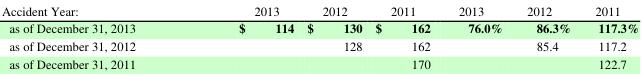table: (0, 1, 638, 71)
table column: (0, 1, 186, 71), (186, 1, 299, 71), (368, 1, 443, 71), (443, 1, 514, 71), (299, 1, 368, 71), (514, 1, 582, 71), (582, 1, 638, 71)
table column header: (0, 1, 638, 18)
table row: (0, 18, 638, 36), (0, 53, 638, 71), (0, 1, 638, 18), (0, 36, 638, 53)
